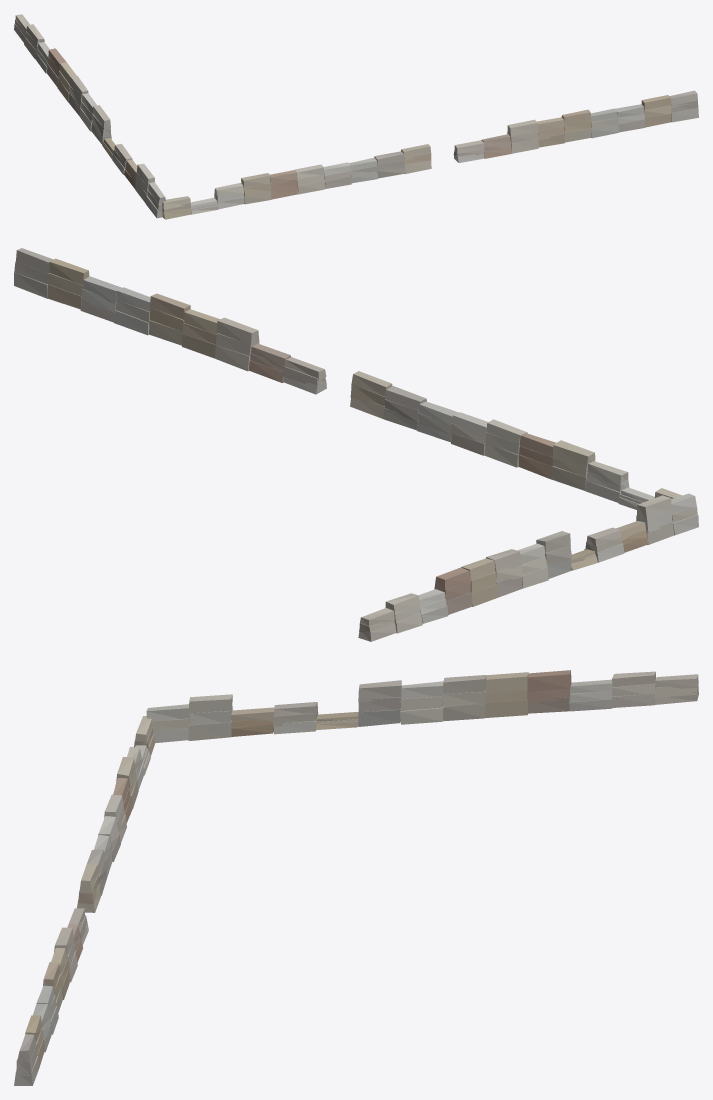
File: farm_4_34_mid.glb
3 views of the same model, one above another, from view 1: azimuth 30°, elevation 25°; view 2: azimuth 150°, elevation 25°; view 3: azimuth 270°, elevation 25° (orthographic). The views are drawn at different scales.
Parts seen in each view (by area): view 1: geometry_0; view 2: geometry_0; view 3: geometry_0.
Boxes of the visible parts, x1,y1,x2,y2 form: geometry_0: [14, 14, 698, 219]; geometry_0: [14, 248, 698, 641]; geometry_0: [14, 670, 698, 1085].
Size of the model in its own units: 31.56 by 3.73 by 24.77.
